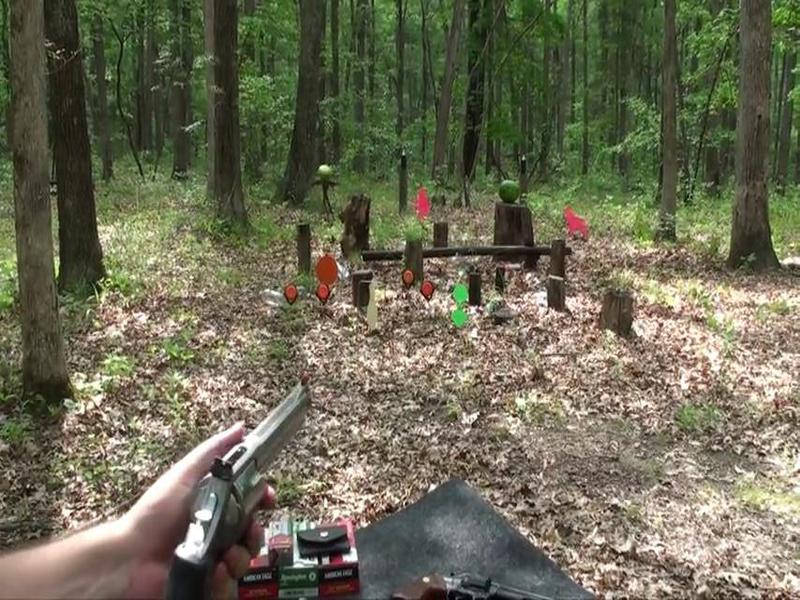Revolver: (114, 363, 316, 597)
